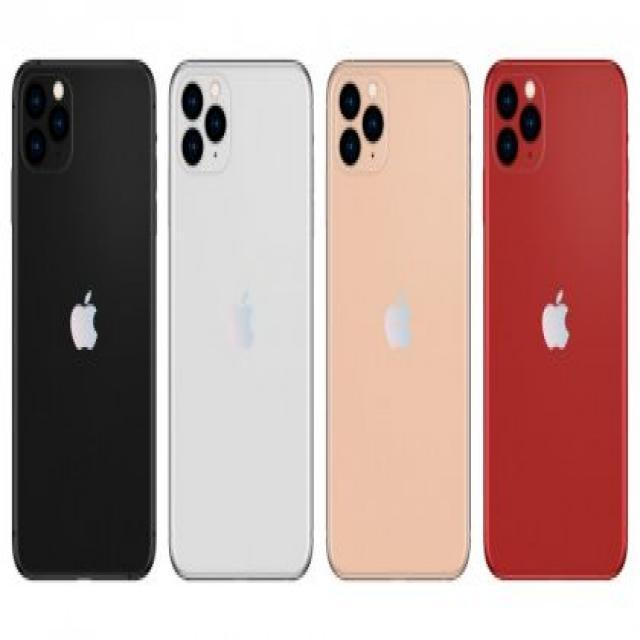phone: (9, 54, 160, 588), (323, 56, 473, 584), (167, 55, 315, 581), (482, 56, 630, 580)
